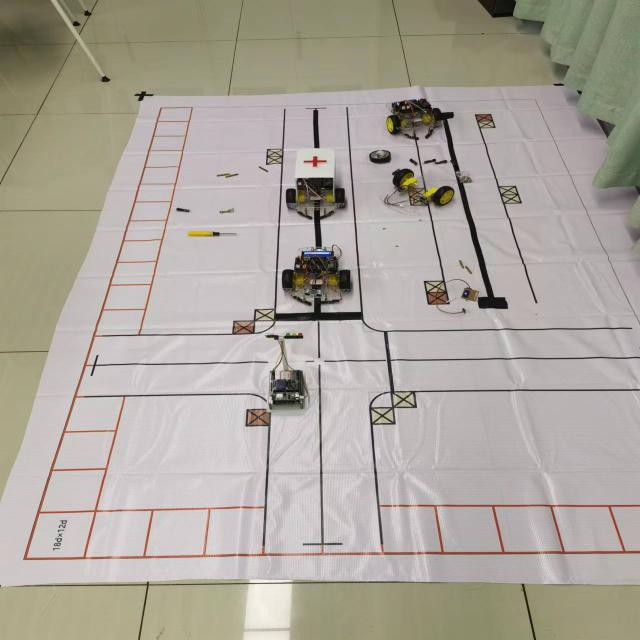RedCross: (300, 154, 330, 168)
